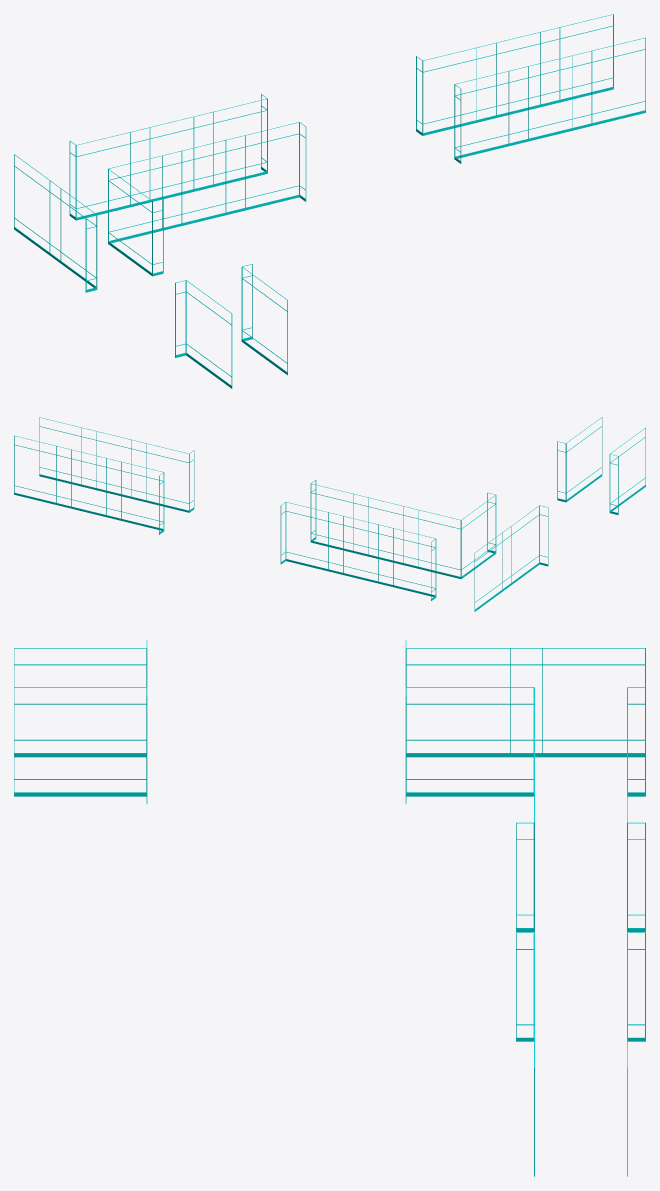
3 renders of one model, top to bottom at view 1: azimuth 30°, elevation 25°; view 2: azimuth 150°, elevation 25°; view 3: azimuth 270°, elevation 25°, orthographic. The views are drawn at different scales.
Visible parts, largest first — view 1: polySurface17; view 2: polySurface17; view 3: polySurface17.
Boxes of the visible parts, <box> form: polySurface17: <box>14,14,645,388</box>; polySurface17: <box>14,417,645,611</box>; polySurface17: <box>14,640,645,1176</box>.
Bounding box in the file's own units: 2603 × 309 × 1626.
